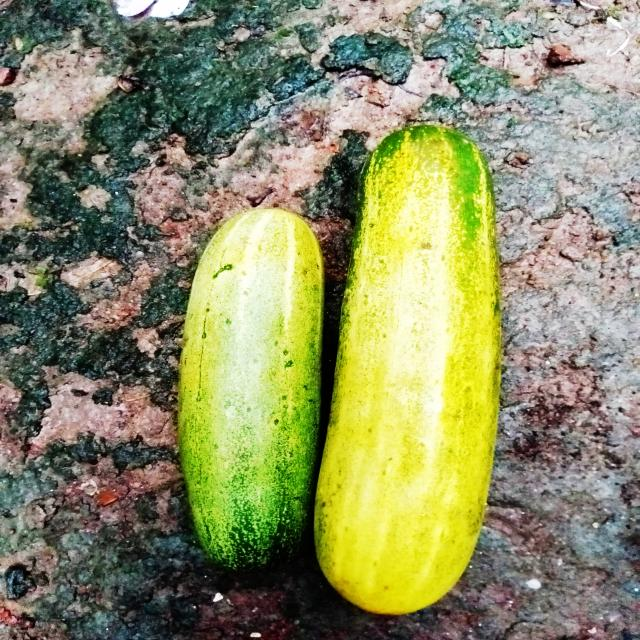Fresh-Cucumber: (311, 119, 503, 618), (178, 204, 332, 579)
